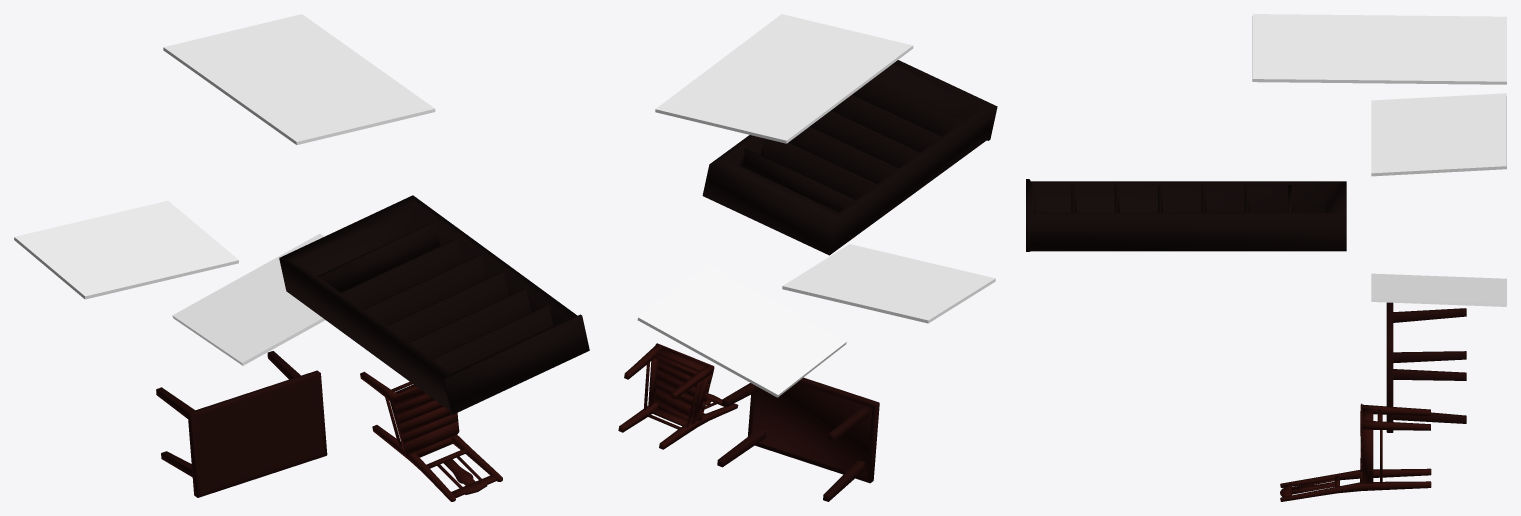
3 views of the same model, side by side, from view 1: azimuth 30°, elevation 25°; view 2: azimuth 150°, elevation 25°; view 3: azimuth 270°, elevation 25° (orthographic). The views are drawn at different scales.
Visible parts, largest first — view 1: diffuse_shelf_02, glass_door_03, diffuse_table_01, glass_window_01, glass_window_02, diffuse_chair_03; view 2: diffuse_shelf_02, glass_door_03, glass_window_02, diffuse_table_01, glass_window_01, diffuse_chair_03; view 3: diffuse_shelf_02, glass_door_03, glass_window_01, diffuse_chair_03, glass_window_02, diffuse_table_01.
Boxes of the visible parts, x1,y1,x2,y2 form: diffuse_shelf_02: [279, 195, 589, 414]; glass_door_03: [163, 14, 435, 144]; diffuse_table_01: [156, 351, 327, 497]; glass_window_01: [14, 201, 238, 299]; glass_window_02: [172, 233, 325, 365]; diffuse_chair_03: [360, 371, 502, 501]; diffuse_shelf_02: [702, 60, 997, 255]; glass_door_03: [655, 14, 913, 143]; glass_window_02: [637, 264, 846, 397]; diffuse_table_01: [717, 377, 879, 501]; glass_window_01: [782, 244, 995, 323]; diffuse_chair_03: [618, 343, 738, 449]; diffuse_shelf_02: [1026, 179, 1346, 251]; glass_door_03: [1252, 14, 1506, 84]; glass_window_01: [1371, 93, 1506, 176]; diffuse_chair_03: [1280, 403, 1431, 501]; glass_window_02: [1371, 273, 1506, 306]; diffuse_table_01: [1386, 302, 1466, 432].
Bounding box in the file's own units: 241 × 256 × 284.
